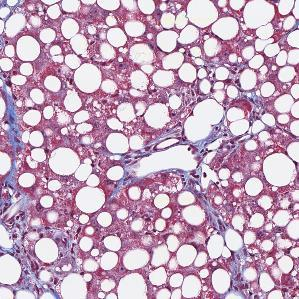fibrosis: (165, 166, 210, 207)
